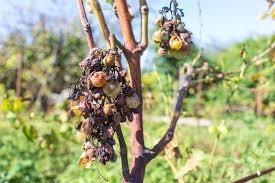Grape Rotten: (66, 47, 140, 168), (152, 1, 193, 58)
